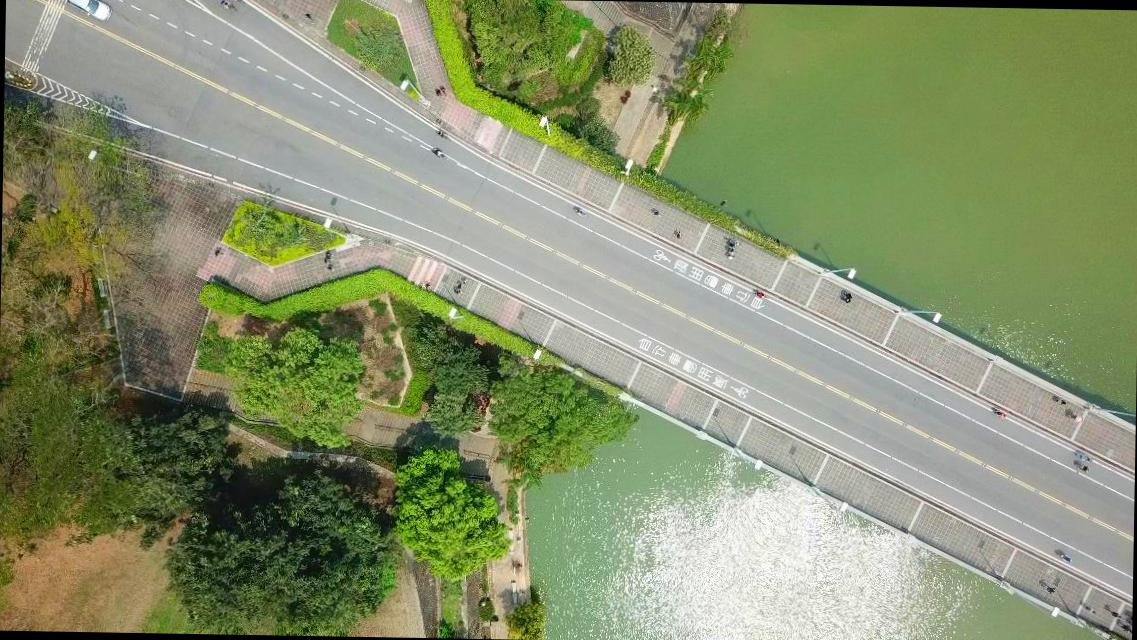vehicle: (63, 0, 114, 25)
